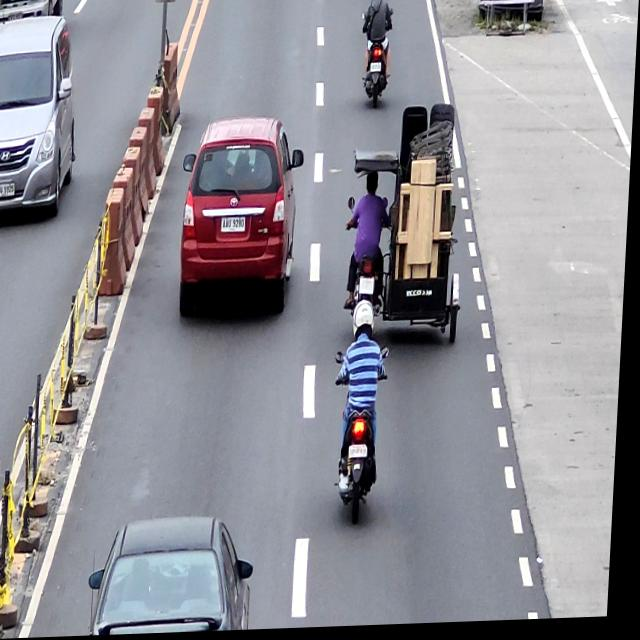Car: (180, 114, 308, 321), (91, 514, 263, 637)
License-Plate: (223, 217, 249, 235), (354, 448, 373, 463), (370, 65, 383, 75)
Motorcycle: (334, 346, 393, 526), (359, 11, 396, 108)
Tricycle: (343, 151, 472, 347)
